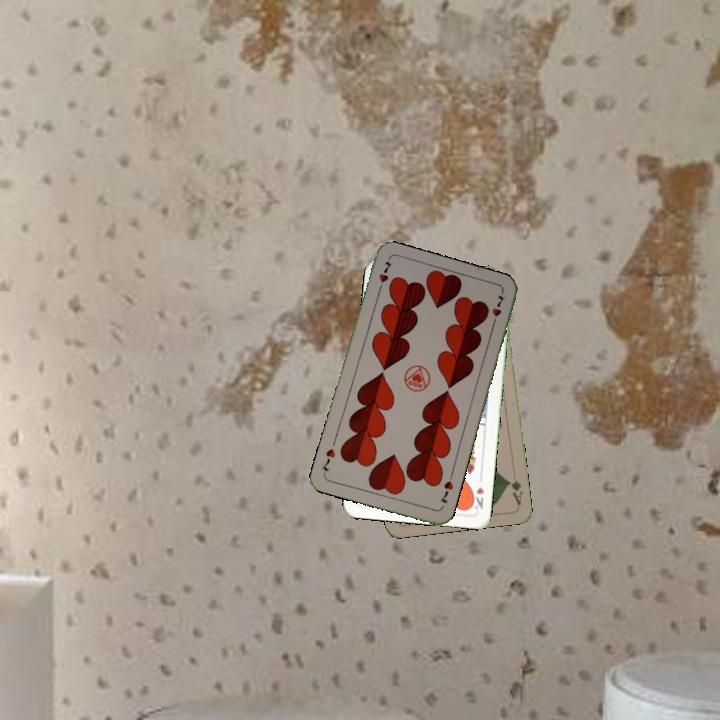GA: (504, 476, 526, 508)
H7: (374, 257, 394, 295), (436, 477, 456, 506)
HK: (467, 483, 487, 512)
